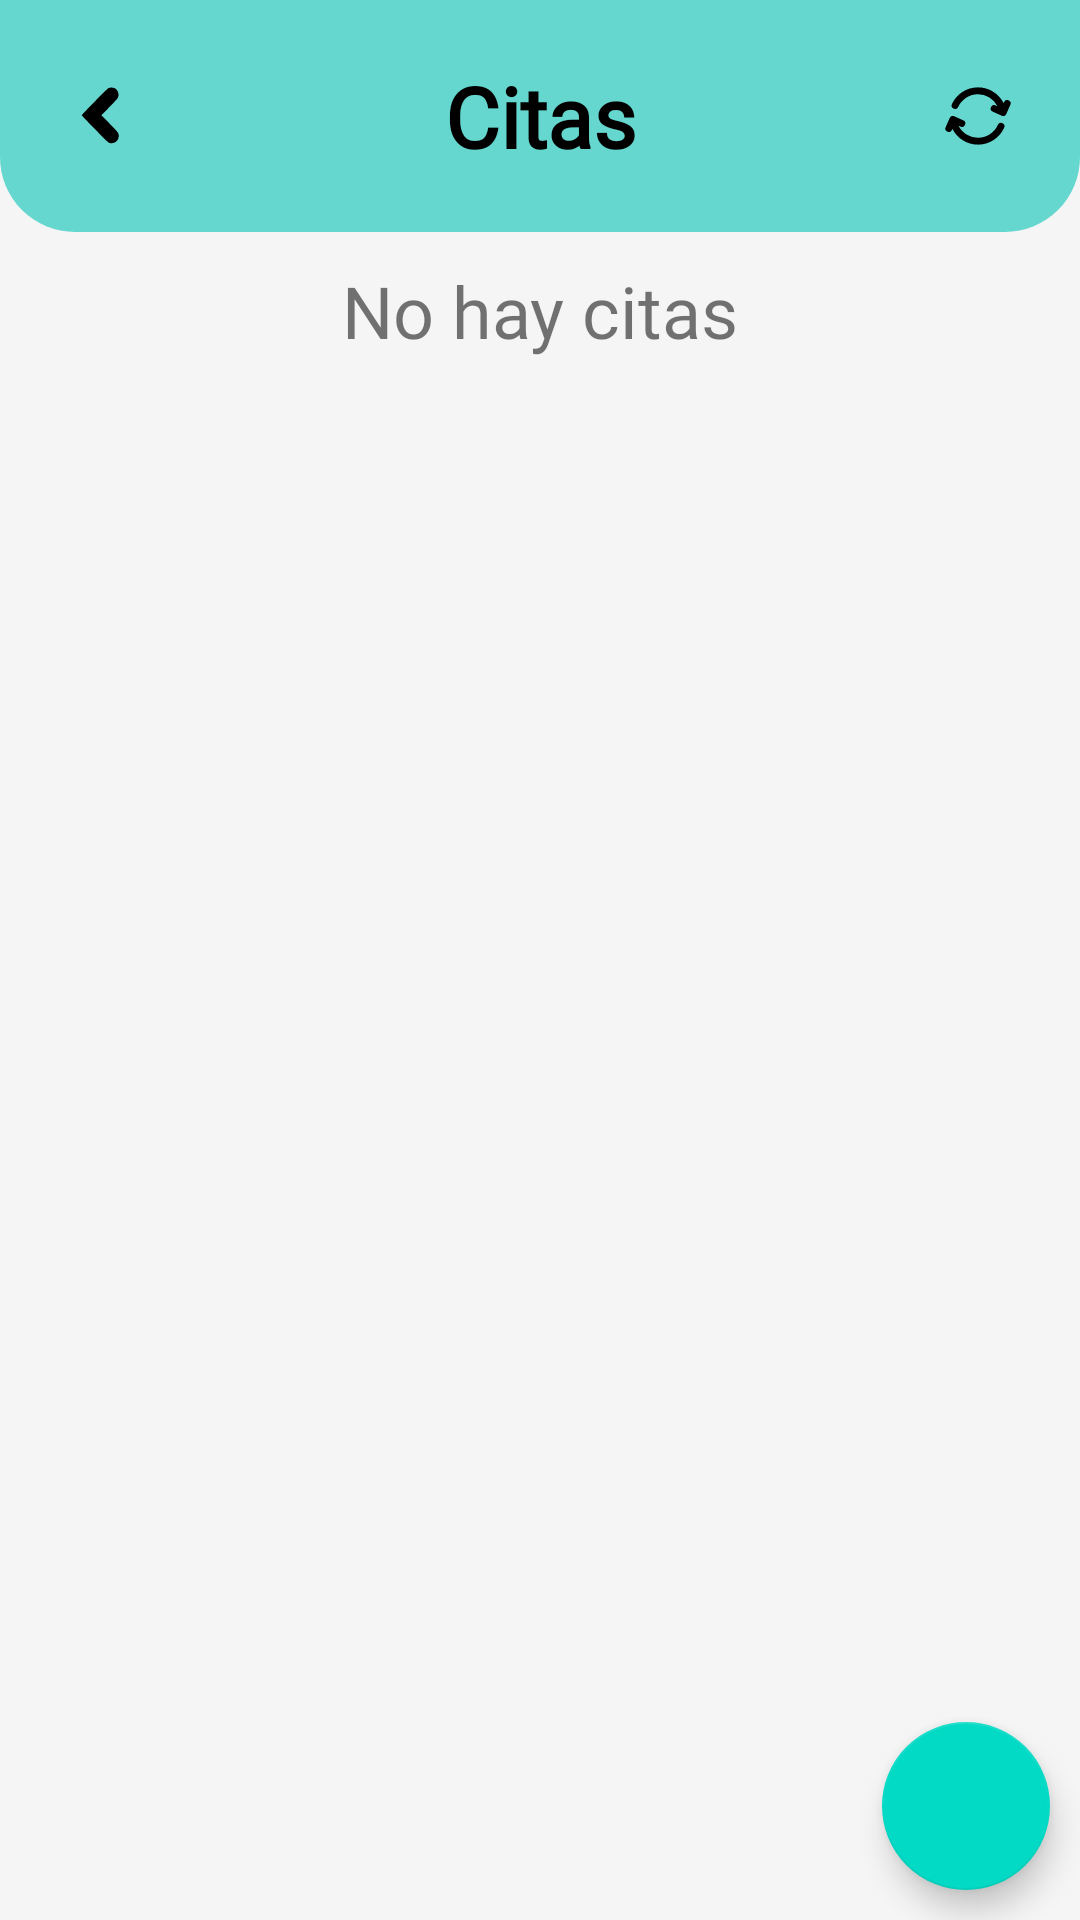

Icon bounding boxes for this 1080w x 1920h phone screenshot, format BBox(x1, y1, x2, y2):
flecha atras: BBox(81, 87, 119, 144)
recargar: BBox(945, 87, 1011, 145)
